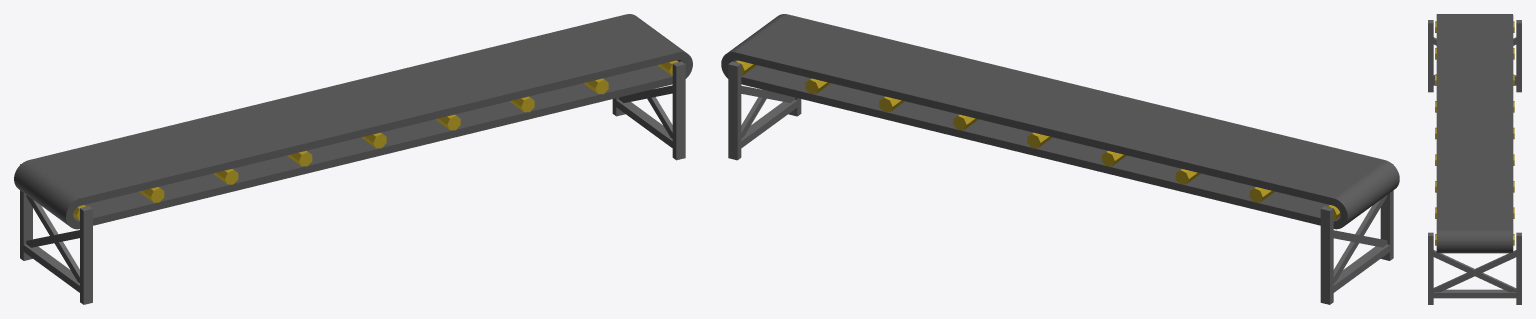
Rendered from belt_3_to_4.glb.
3 renders of one model, left to right at view 1: azimuth 30°, elevation 25°; view 2: azimuth 150°, elevation 25°; view 3: azimuth 270°, elevation 25°, orthographic. The views are drawn at different scales.
Parts seen in each view (by area): view 1: belt_sup, belt_inf, belt_end, foot2.001, foot2, foot3, foot3.001, foot4, foot1, belt_start; view 2: belt_sup, belt_inf, belt_end, foot1, foot1.001, foot3.001, foot3, foot2, foot5, belt_start, foot4; view 3: belt_sup, belt_start, foot3.001, foot4.001, foot5.001, foot1, foot1.001, foot2, foot2.001.
Boxes of the visible parts, <box> form: belt_sup: <box>28,14,678,205</box>; belt_inf: <box>73,65,672,225</box>; belt_end: <box>14,160,79,229</box>; foot2.001: <box>672,61,685,160</box>; foot2: <box>80,206,92,304</box>; foot3: <box>23,244,80,292</box>; foot3.001: <box>616,99,672,147</box>; foot4: <box>26,195,79,283</box>; foot1: <box>20,164,32,260</box>; belt_start: <box>627,14,692,78</box>; belt_sup: <box>735,14,1385,205</box>; belt_inf: <box>741,65,1340,228</box>; belt_end: <box>1334,160,1399,229</box>; foot1: <box>1320,206,1333,304</box>; foot1.001: <box>728,61,741,160</box>; foot3.001: <box>741,100,797,148</box>; foot3: <box>1333,244,1389,292</box>; foot2: <box>1380,164,1393,260</box>; foot5: <box>1333,195,1387,282</box>; belt_start: <box>721,14,786,78</box>; foot4: <box>1333,230,1387,247</box>; belt_sup: <box>1436,15,1513,234</box>; belt_start: <box>1436,230,1512,253</box>; foot3.001: <box>1433,289,1516,298</box>; foot4.001: <box>1433,250,1516,292</box>; foot5.001: <box>1433,250,1516,292</box>; foot1: <box>1516,20,1521,92</box>; foot1.001: <box>1516,232,1521,304</box>; foot2: <box>1428,20,1433,92</box>; foot2.001: <box>1428,232,1433,304</box>.
Size of the model in its own units: 8.47 by 1.31 by 1.49.
